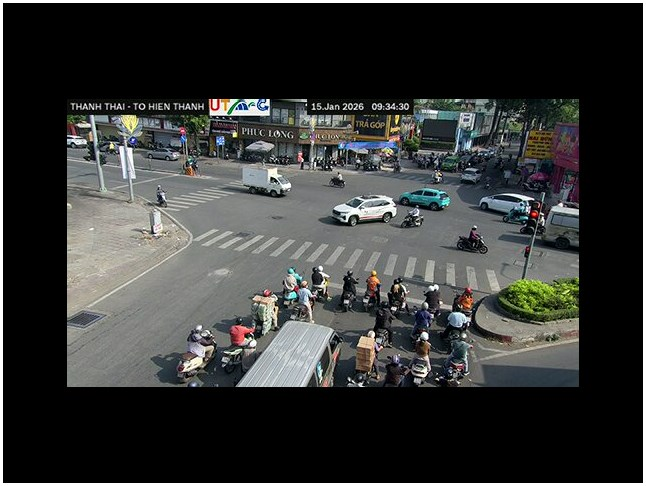car: (331, 195, 398, 225), (242, 166, 292, 197), (479, 192, 536, 218), (397, 187, 451, 211), (460, 168, 483, 185)
motorbike: (456, 228, 488, 254), (461, 233, 488, 254)
truck: (539, 200, 579, 249)
